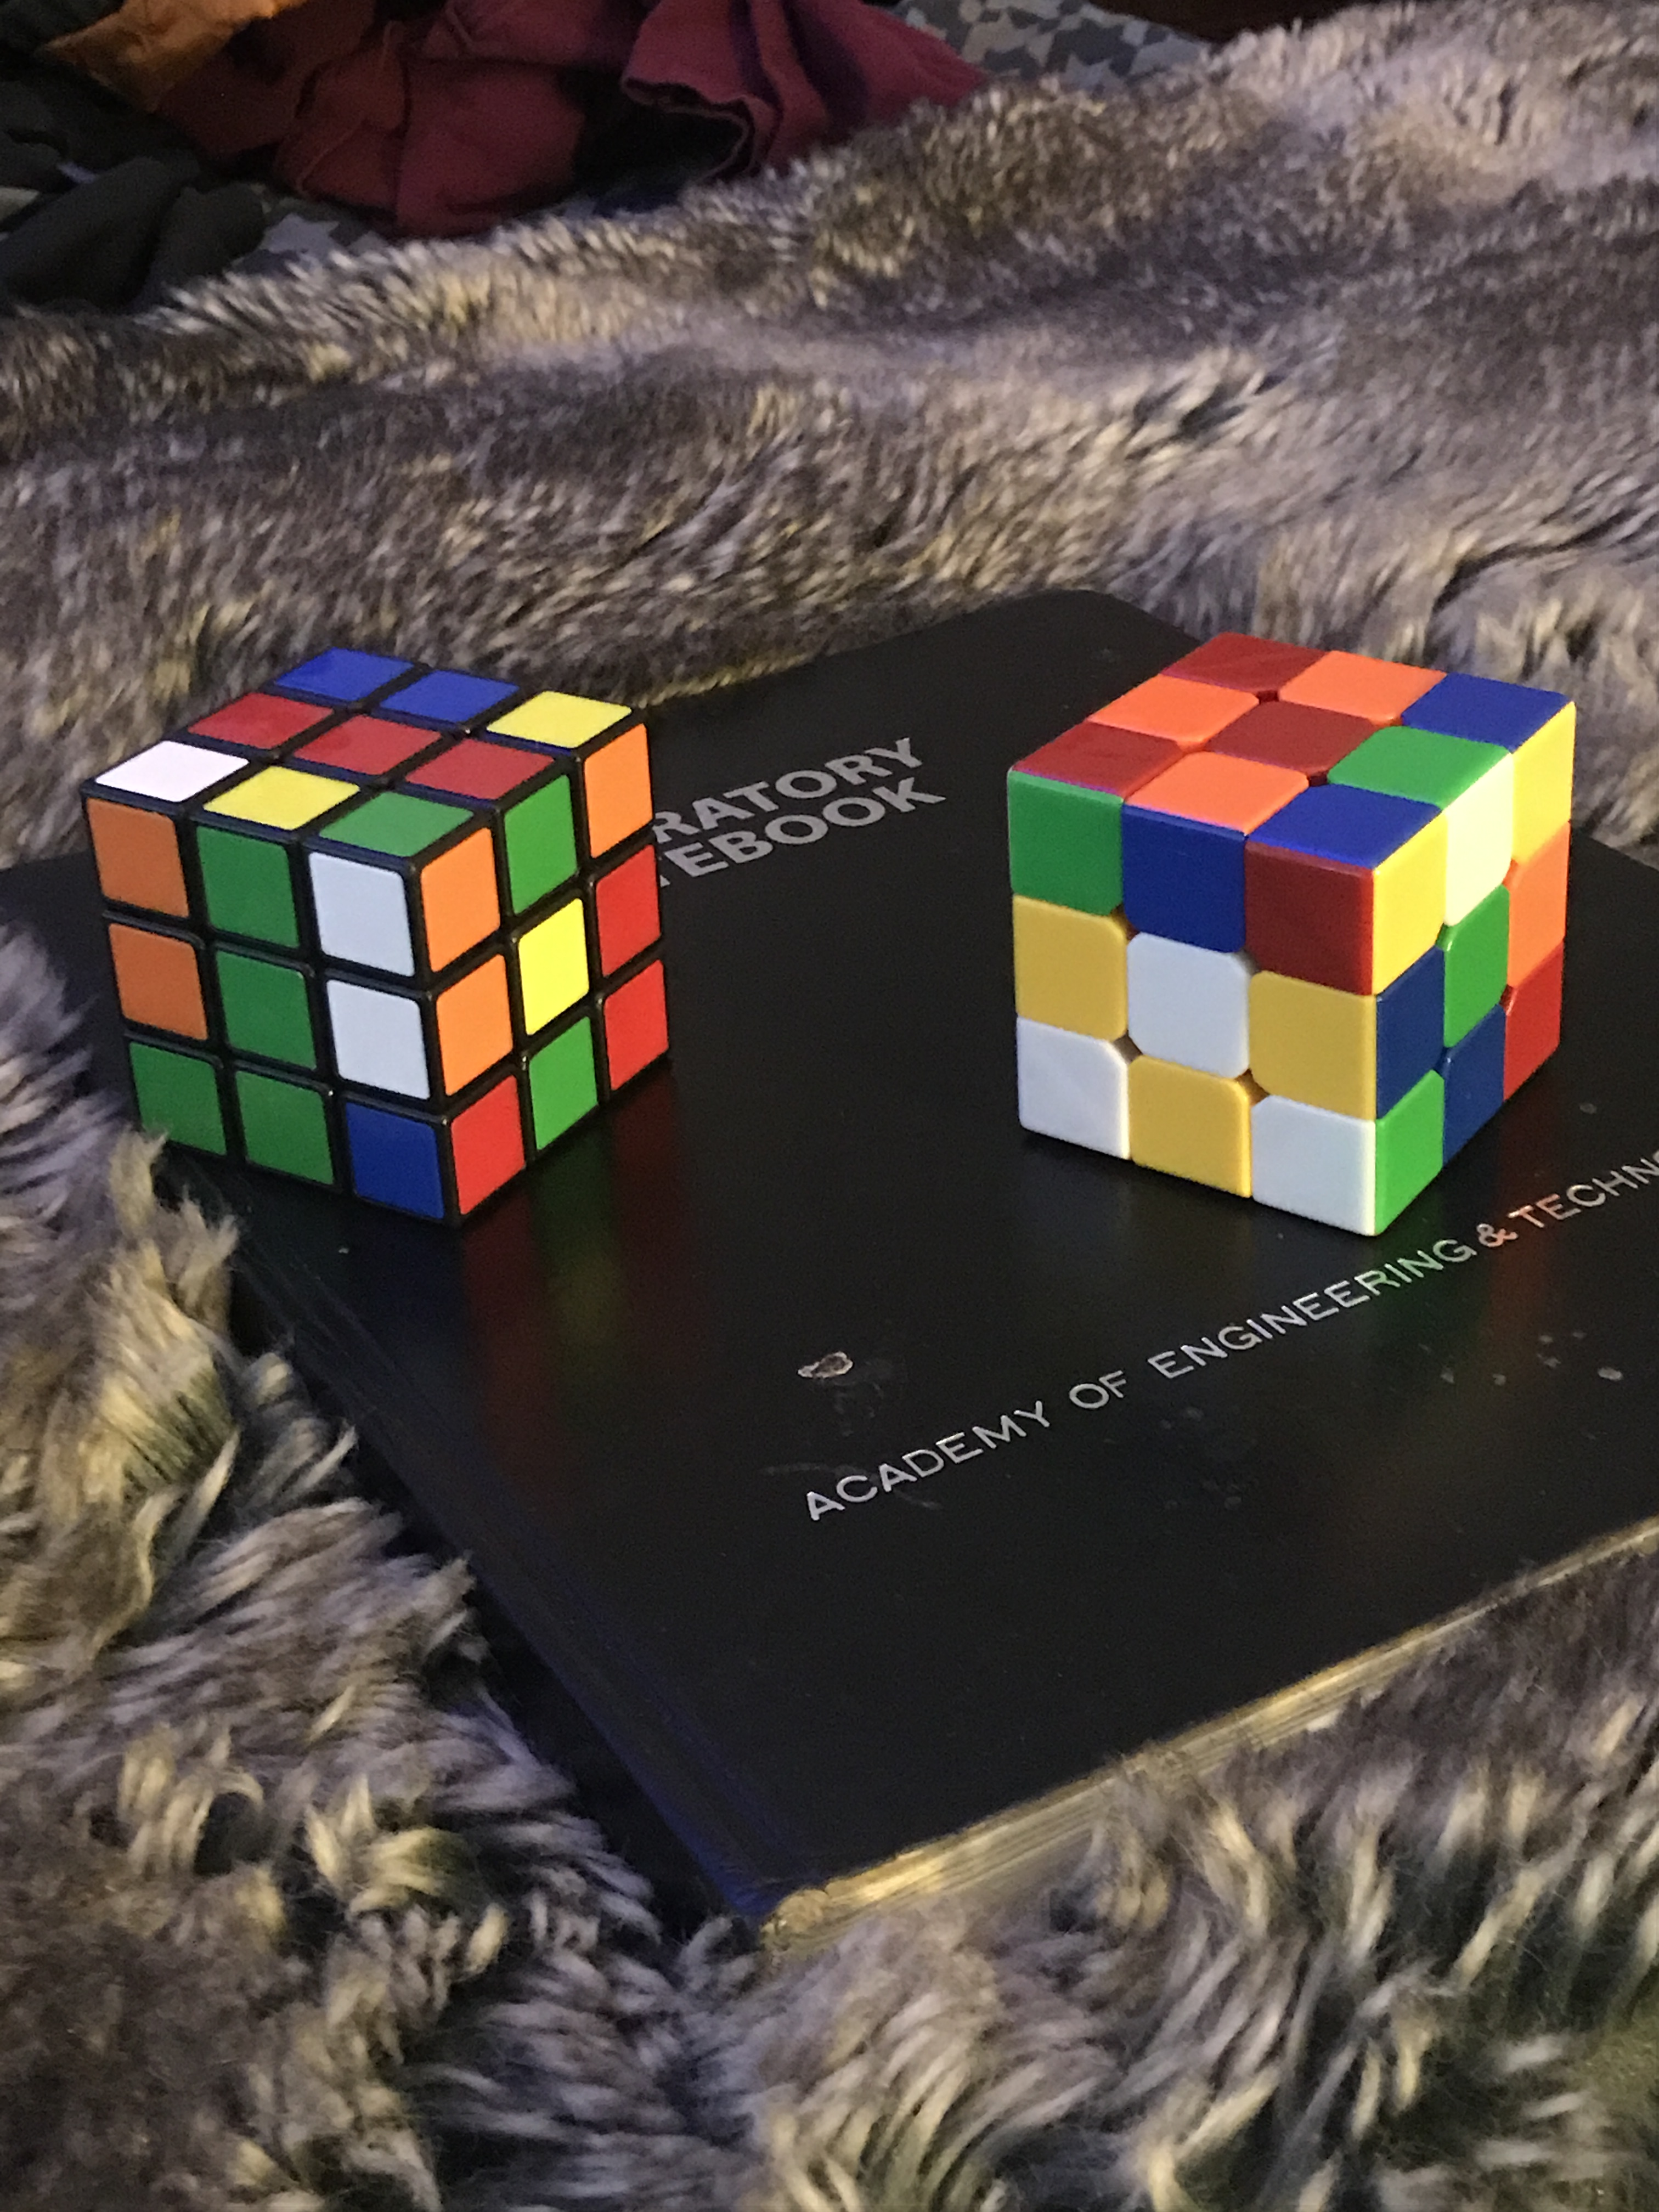rubiks: (84, 650, 680, 1230), (1002, 639, 1568, 1240)
